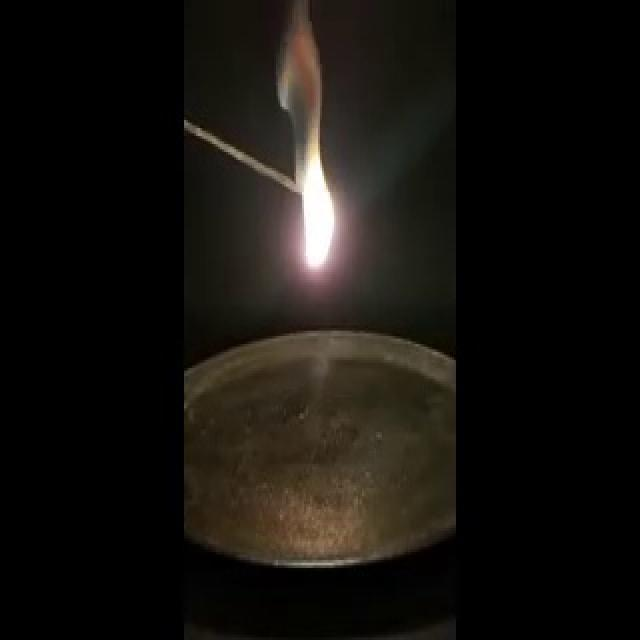fire: (271, 50, 339, 282)
